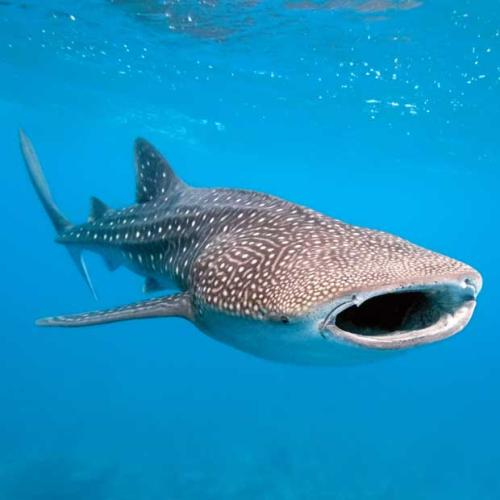shark-endangered: (76, 159, 485, 369)
